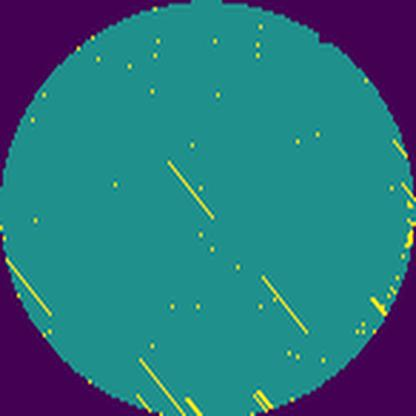Scratch: (162, 156, 219, 223), (257, 272, 313, 338), (135, 353, 189, 416), (6, 255, 56, 320)
